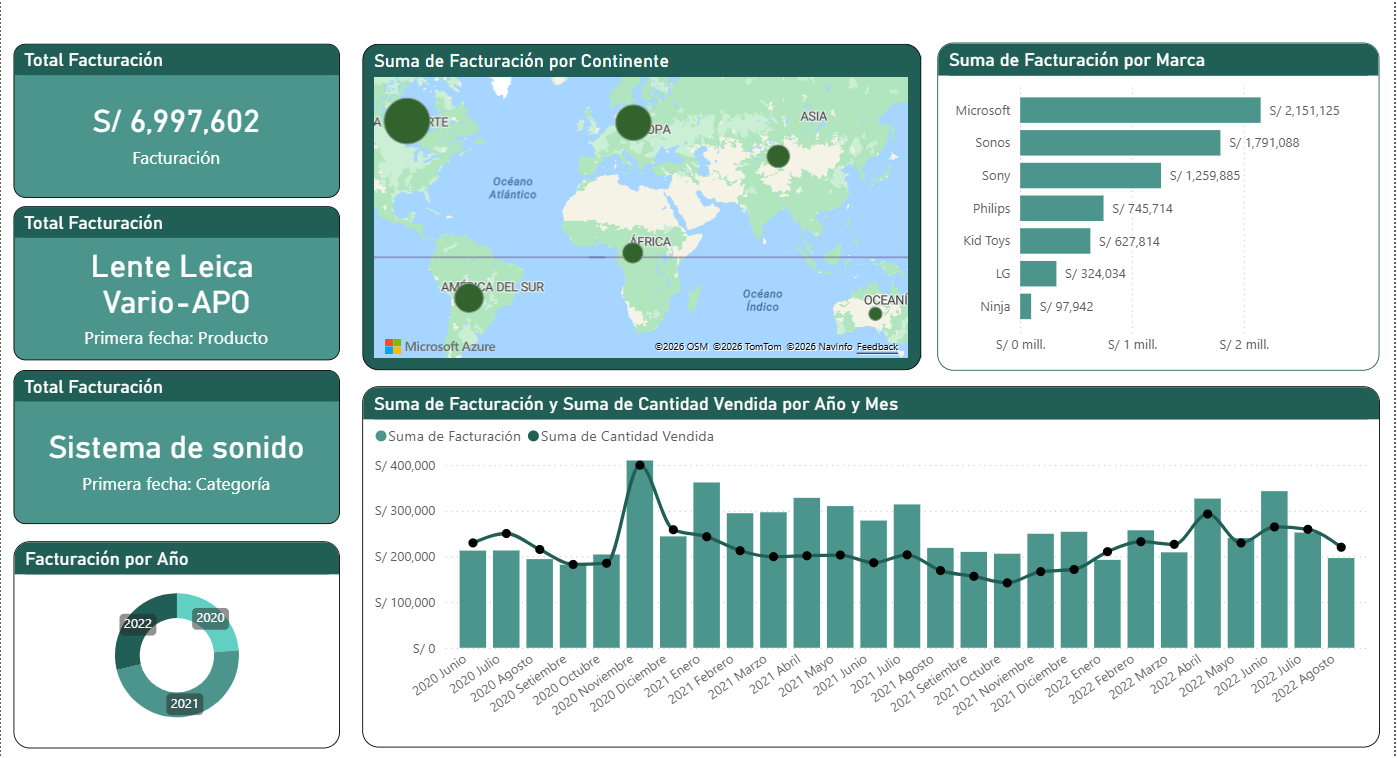

What the dashboard file says about the page in this screenshot:
{"tool":"powerbi","page":{"name":"Página 1","canvas":[1280,720],"ordinal":0},"visuals":[{"type":"card","title":"Total Facturación","fields":{"Values":["Sum(VENTAS.Facturación)"]},"box":[11,45,300,141.7],"z":0},{"type":"card","title":"Total Facturación","fields":{"Values":["Min(VENTAS.Producto)"]},"box":[11.4,194.3,300,141.4],"z":1000},{"type":"azureMap","fields":{"Category":["VENTAS.Continente"],"Size":["Sum(VENTAS.Facturación)"]},"box":[331.7,45,513.3,300],"z":2000},{"type":"lineClusteredColumnComboChart","fields":{"Category":["VENTAS.Fecha De Venta.Variación.Jerarquía de fechas.Año","VENTAS.Fecha De Venta.Variación.Jerarquía de fechas.Mes"],"Y":["Sum(VENTAS.Facturación)"],"Y2":["Sum(VENTAS.Cantidad Vendida)"]},"box":[331.7,360,935,331.7],"z":3000},{"type":"clusteredBarChart","fields":{"Category":["VENTAS.Marca"],"Y":["Sum(VENTAS.Facturación)"]},"box":[860,43.3,406.7,301.7],"z":4000},{"type":"card","title":"Total Facturación","fields":{"Values":["Min(VENTAS.Categoría)"]},"box":[11.4,344.3,300,141.4],"z":5000},{"type":"donutChart","title":"Facturación por Año","fields":{"Category":["VENTAS.Fecha De Venta.Variación.Jerarquía de fechas.Año"],"Y":["Sum(VENTAS.Facturación)"]},"box":[11.4,501.4,300,190],"z":6000}]}

Visuals, with their boxes in screenshot pixels (x1, y1, x2, y2):
"Total Facturación" card: box(12, 45, 334, 197)
"Total Facturación" card: box(12, 205, 335, 357)
azureMap - VENTAS.Continente x Sum(VENTAS.Facturación): box(356, 45, 908, 367)
lineClusteredColumnComboChart - VENTAS.Fecha De Venta.Variación.Jerarquía de fechas.Año x VENTAS.Fecha De Venta.Variación.Jerarquía de fechas.Mes: box(356, 383, 1361, 740)
clusteredBarChart - VENTAS.Marca x Sum(VENTAS.Facturación): box(924, 43, 1361, 367)
"Total Facturación" card: box(12, 366, 335, 518)
"Facturación por Año" donutChart: box(12, 535, 335, 739)
